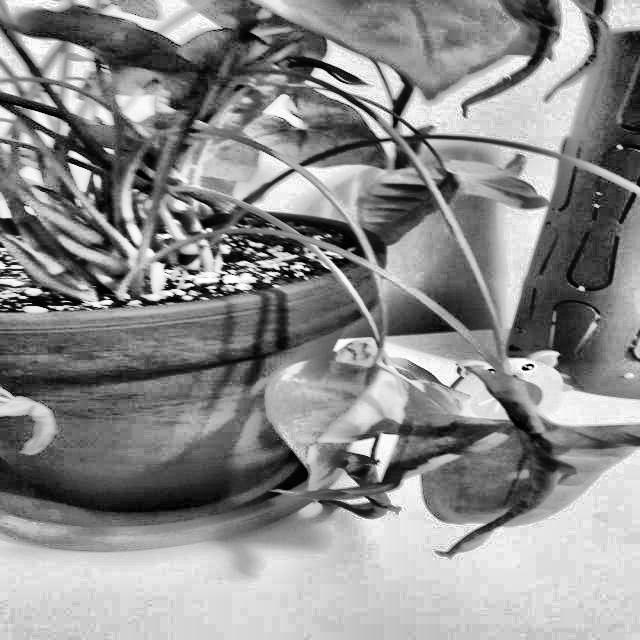plants: (0, 0, 633, 558), (251, 331, 460, 525)
